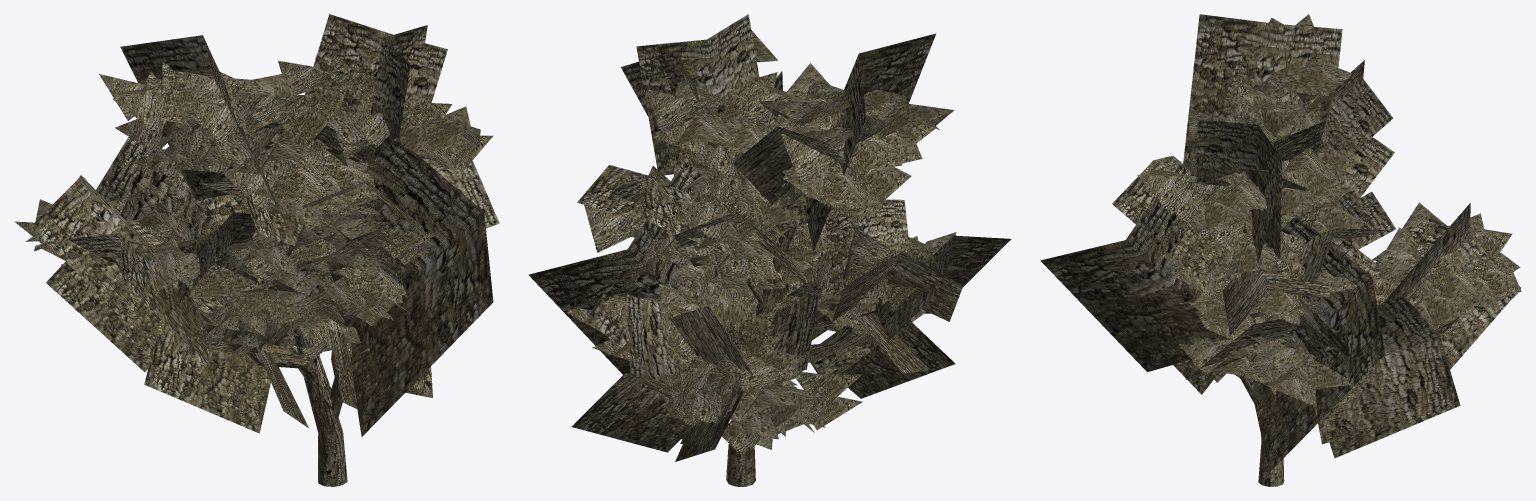
The model's file is oak_c_fall.dae.
3 views of the same model, side by side, from view 1: azimuth 30°, elevation 25°; view 2: azimuth 150°, elevation 25°; view 3: azimuth 270°, elevation 25° (orthographic). The views are drawn at different scales.
Visible parts, largest first — view 1: oak_c_fall; view 2: oak_c_fall; view 3: oak_c_fall.
Part boxes in pixels (x1,y1,x2,y2): oak_c_fall: (15,14,499,486); oak_c_fall: (528,14,1011,486); oak_c_fall: (1040,14,1521,486).
Size of the model in its own units: 1093 by 1183 by 1273.
